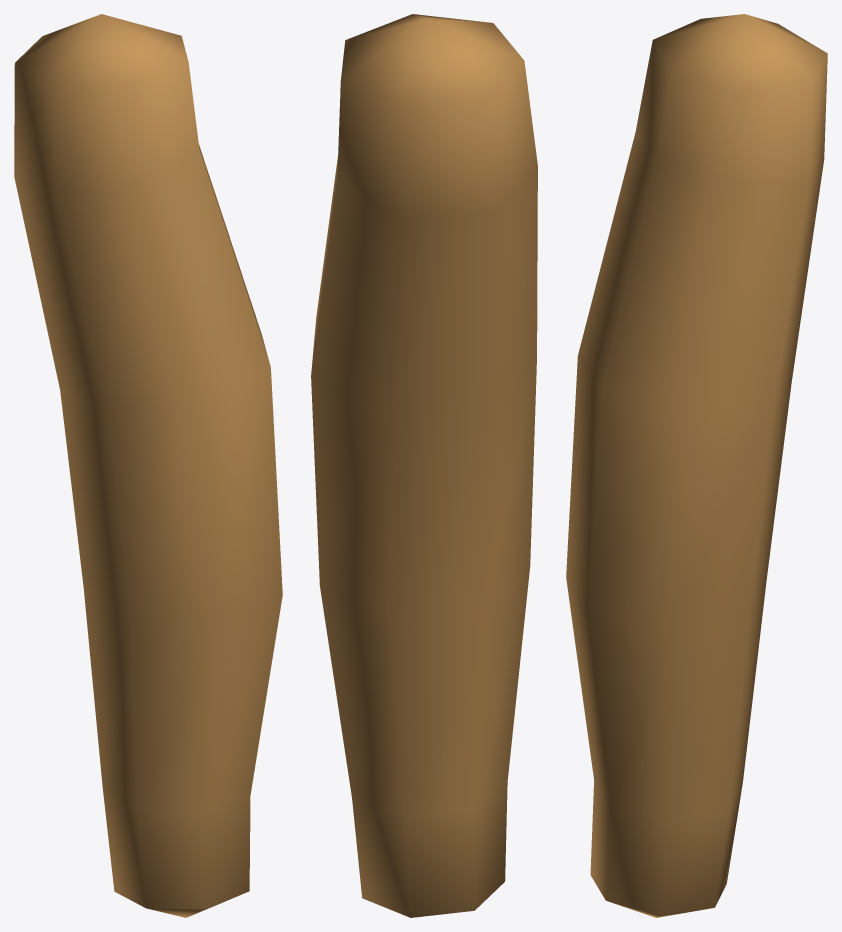
The model's file is tarsus4_T1_left_leg.obj.
The picture shows the model from 3 angles, left to right: view 1: azimuth 30°, elevation 25°; view 2: azimuth 150°, elevation 25°; view 3: azimuth 270°, elevation 25°; orthographic projection. The views are drawn at different scales.
Size of the model in its own units: 0.00269 by 0.0108 by 0.0029.
